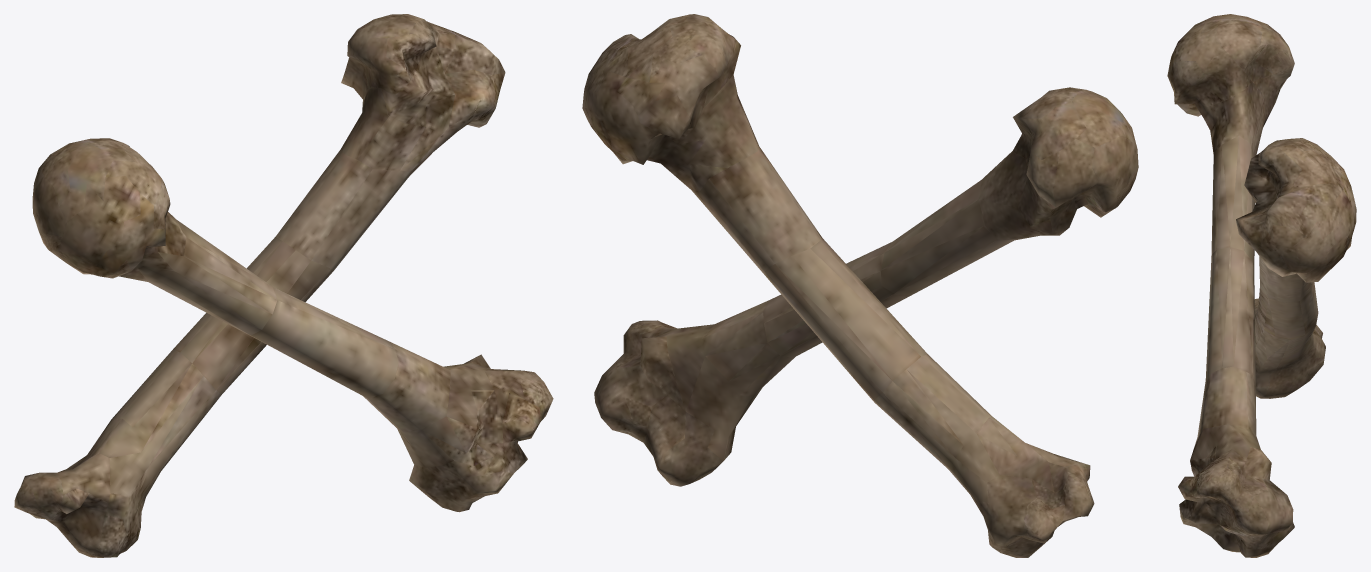
The model's file is h_bone_B.glb.
The picture shows the model from 3 angles, left to right: view 1: azimuth 30°, elevation 25°; view 2: azimuth 150°, elevation 25°; view 3: azimuth 270°, elevation 25°; orthographic projection. The views are drawn at different scales.
Parts seen in each view (by area): view 1: h_bone_B; view 2: h_bone_B; view 3: h_bone_B.
Boxes of the visible parts, left/top/right/bottom form: h_bone_B: left=14, top=14, right=553, bottom=557; h_bone_B: left=582, top=14, right=1138, bottom=557; h_bone_B: left=1167, top=14, right=1356, bottom=557.
Bounding box in the file's own units: 0.6063 × 0.551 × 0.2366.
Materials: 1 (1 with a texture image).
